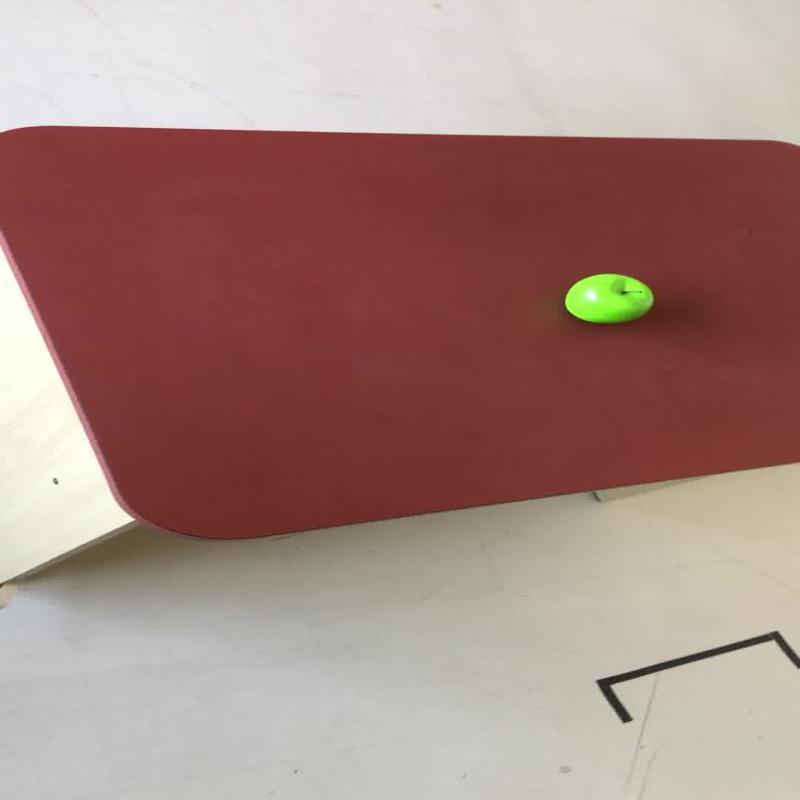apple: (562, 272, 653, 324)
